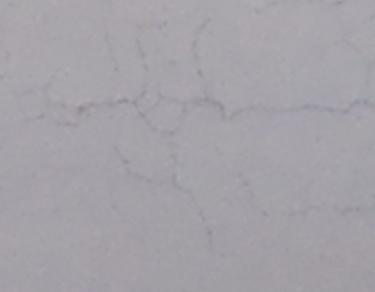fissura: (55, 62, 369, 234)
